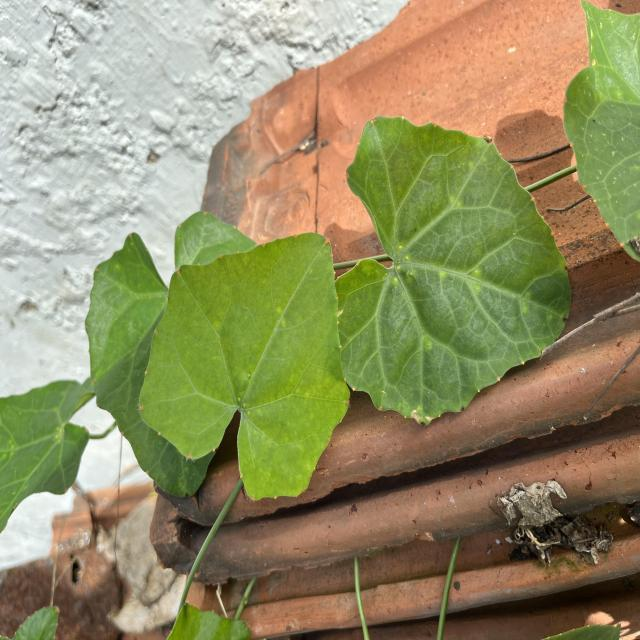Coccinia grandis: (334, 111, 574, 429), (137, 228, 350, 502)
